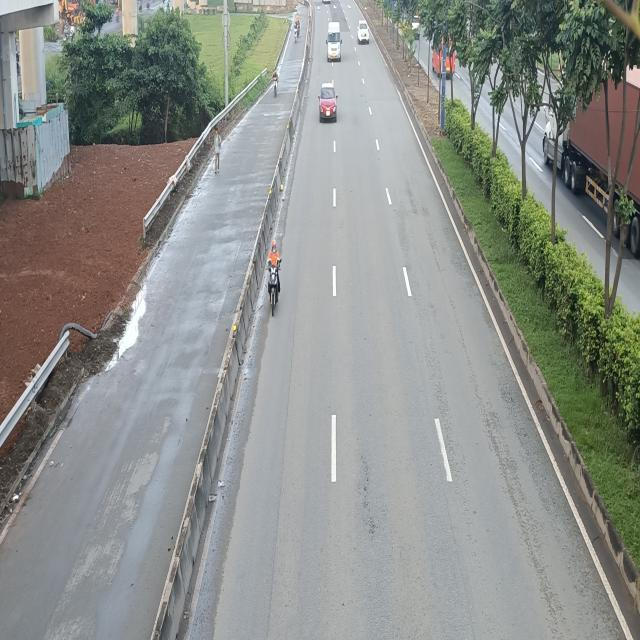car: (317, 82, 340, 122)
van: (326, 22, 341, 65)
